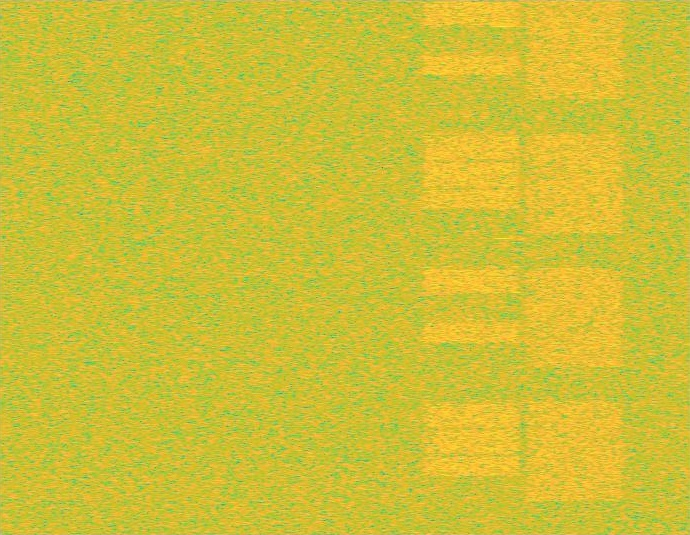5G: (523, 0, 627, 534)
LTE: (420, 0, 523, 534)
Radar: (496, 0, 510, 534)
